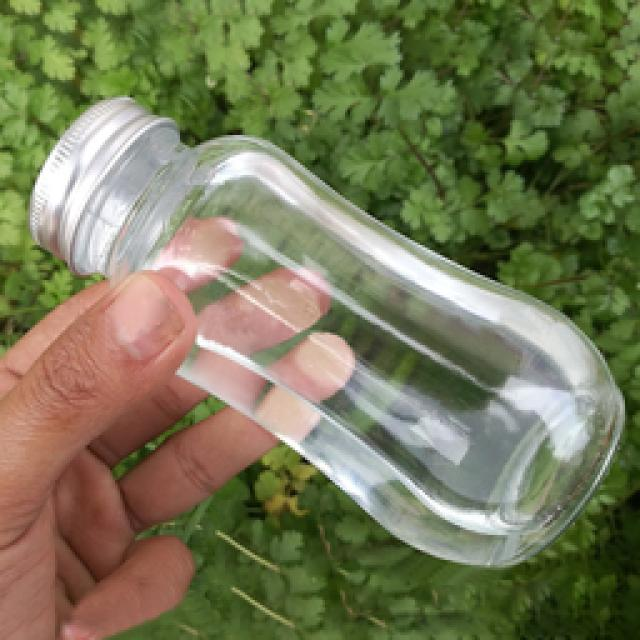glass_beverage_bottles: (73, 44, 602, 538)
